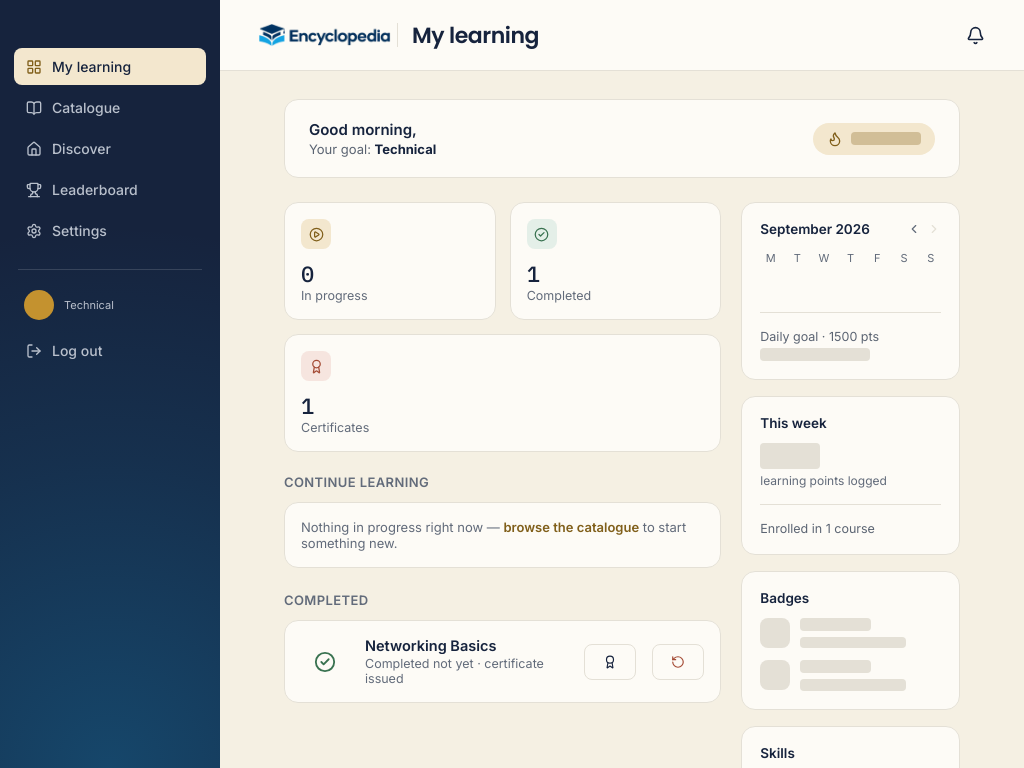
Test case: App — retake handler (#300/#301) › POSTs to /enrollments/:id/retake with the auth header, then refreshes enrollments
Click the button named "Retake". click: click(678, 662)
box: [652, 644, 704, 680]
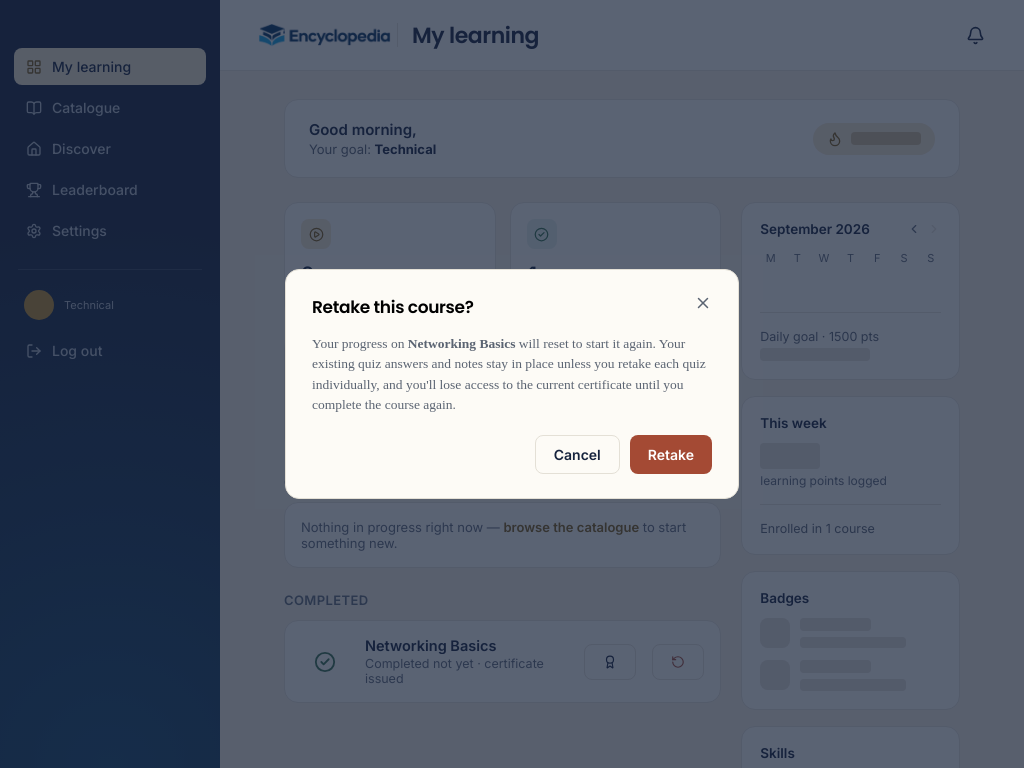
Click the button "Retake". click: click(671, 454)
box: [630, 435, 712, 474]
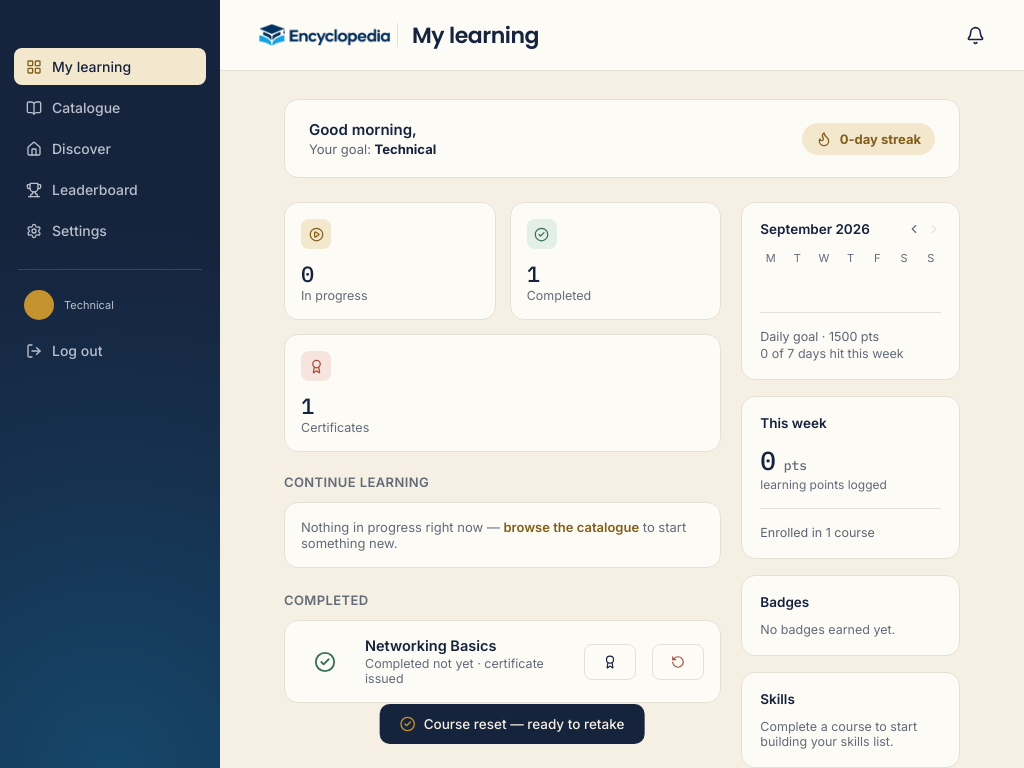
Expected: the dialog is gone
